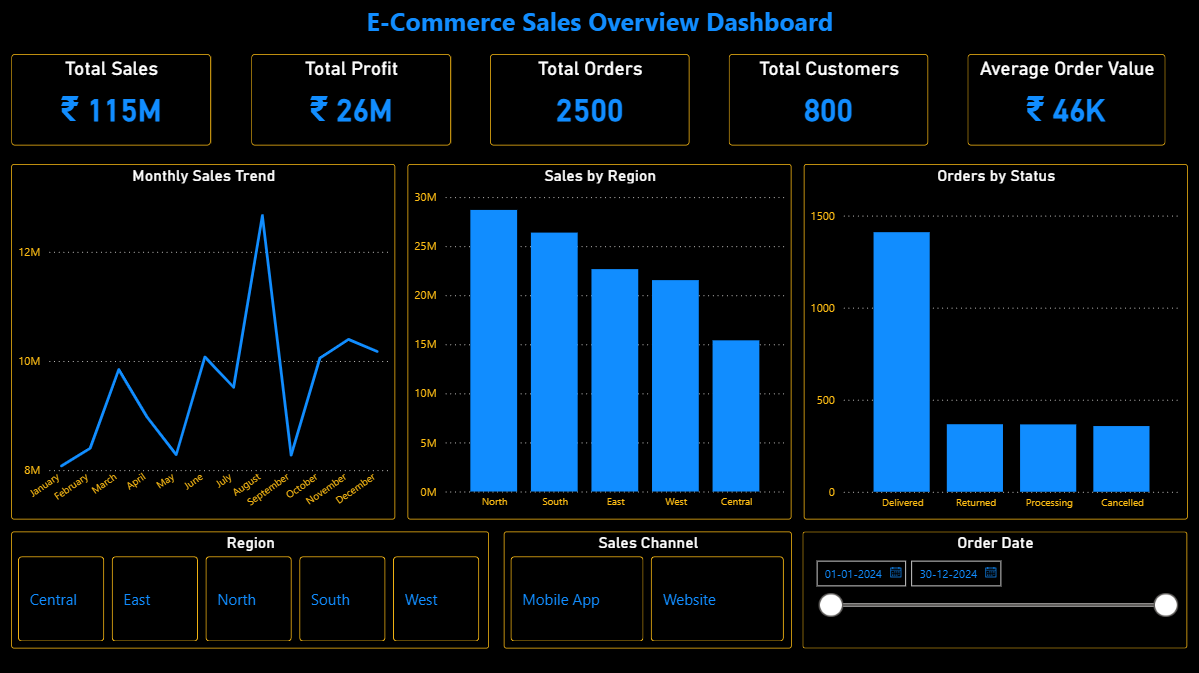

This screenshot's page, from the dashboard's own definition file:
{"tool":"powerbi","page":{"name":"Sales Overview","canvas":[1280,720],"ordinal":0},"visuals":[{"type":"textbox","box":[0,0,1280,49.9],"z":0},{"type":"advanceCardE03760C5AB684758B56AA29F9E6C257B","title":"Total Sales","fields":{"mainMeasure":["order_items_cleaned.Total Sales"]},"box":[12.5,58.3,212.5,97.2],"z":1000},{"type":"advanceCardE03760C5AB684758B56AA29F9E6C257B","title":"Total Profit","fields":{"mainMeasure":["order_items_cleaned.Total Profit"]},"box":[267.4,58.3,212.5,97.2],"z":2000},{"type":"advanceCardE03760C5AB684758B56AA29F9E6C257B","title":"Total Orders","fields":{"mainMeasure":["orders_cleaned.Total Orders"]},"box":[522.2,58.3,212.5,97.2],"z":3000},{"type":"advanceCardE03760C5AB684758B56AA29F9E6C257B","title":"Total Customers","fields":{"mainMeasure":["customers_cleaned.Total Customers"]},"box":[777.1,58.3,212.5,97.2],"z":4000},{"type":"advanceCardE03760C5AB684758B56AA29F9E6C257B","title":"Average Order Value","fields":{"mainMeasure":["order_items_cleaned.Average Order Value"]},"box":[1031.9,58.3,211.1,97.2],"z":5000},{"type":"lineChart","title":"Monthly Sales Trend","fields":{"Category":["orders_cleaned.order_date.Variation.Date Hierarchy.Month"],"Y":["order_items_cleaned.Total Sales"]},"box":[12,176.5,409.5,379.4],"z":6000},{"type":"clusteredColumnChart","title":"Sales by Region","fields":{"Category":["orders_cleaned.region"],"Y":["order_items_cleaned.Total Sales"]},"box":[434.5,176.4,409.7,379.2],"z":7000},{"type":"clusteredColumnChart","title":"Orders by Status","fields":{"Category":["orders_cleaned.order_status"],"Y":["orders_cleaned.Total Orders"]},"box":[857.3,176.5,409.5,379.4],"z":8000},{"type":"advancedSlicerVisual","title":"Region","fields":{"Values":["orders_cleaned.region"]},"box":[12.3,567.9,544.4,124.7],"z":9000},{"type":"advancedSlicerVisual","title":"Sales Channel","fields":{"Values":["order_items_cleaned.return_status"]},"box":[571.6,567.9,272.8,124.7],"z":10000},{"type":"slicer","title":"Order Date","fields":{"Values":["orders_cleaned.order_date"]},"box":[855.8,567.4,410.5,124.4],"z":11000}]}

Visuals, with their boxes in screenshot pixels (x1, y1, x2, y2), scaled from the page's 1280x720 canvas onto the 1199x673 screenshot:
textbox: bbox(0, 0, 1198, 47)
"Total Sales" advanceCardE03760C5AB684758B56AA29F9E6C257B: bbox(12, 54, 211, 145)
"Total Profit" advanceCardE03760C5AB684758B56AA29F9E6C257B: bbox(250, 54, 450, 145)
"Total Orders" advanceCardE03760C5AB684758B56AA29F9E6C257B: bbox(489, 54, 688, 145)
"Total Customers" advanceCardE03760C5AB684758B56AA29F9E6C257B: bbox(728, 54, 927, 145)
"Average Order Value" advanceCardE03760C5AB684758B56AA29F9E6C257B: bbox(967, 54, 1164, 145)
"Monthly Sales Trend" lineChart: bbox(11, 165, 395, 520)
"Sales by Region" clusteredColumnChart: bbox(407, 165, 791, 519)
"Orders by Status" clusteredColumnChart: bbox(803, 165, 1187, 520)
"Region" advancedSlicerVisual: bbox(12, 531, 521, 647)
"Sales Channel" advancedSlicerVisual: bbox(535, 531, 791, 647)
"Order Date" slicer: bbox(802, 530, 1186, 647)
